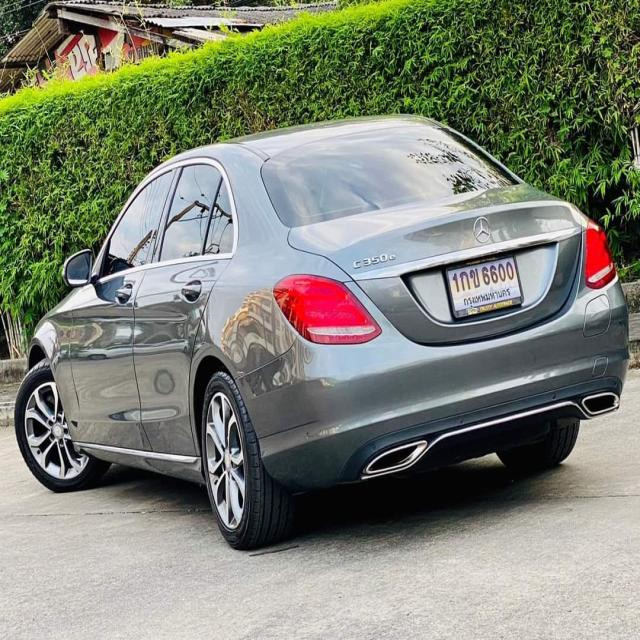license_plate: (440, 247, 526, 321)
